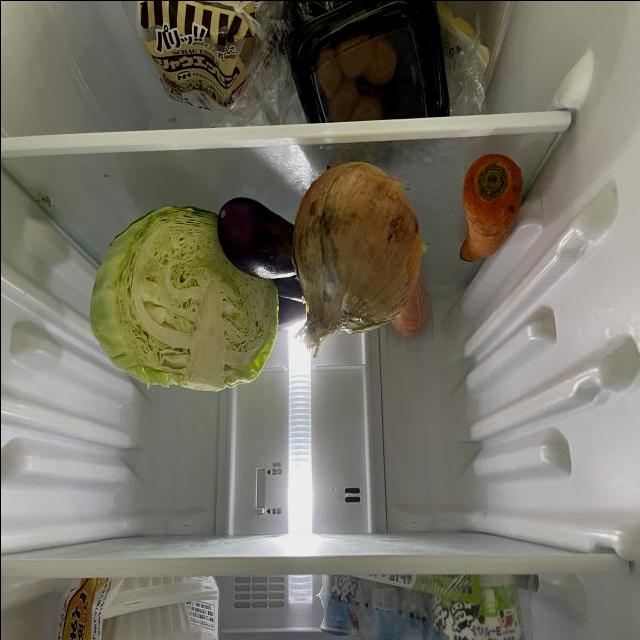cabbage: (87, 206, 277, 388)
carrot: (456, 151, 524, 263), (388, 279, 433, 343)
eggplant: (217, 195, 302, 279), (273, 300, 305, 337), (277, 276, 307, 304)
onion: (291, 159, 421, 345)
